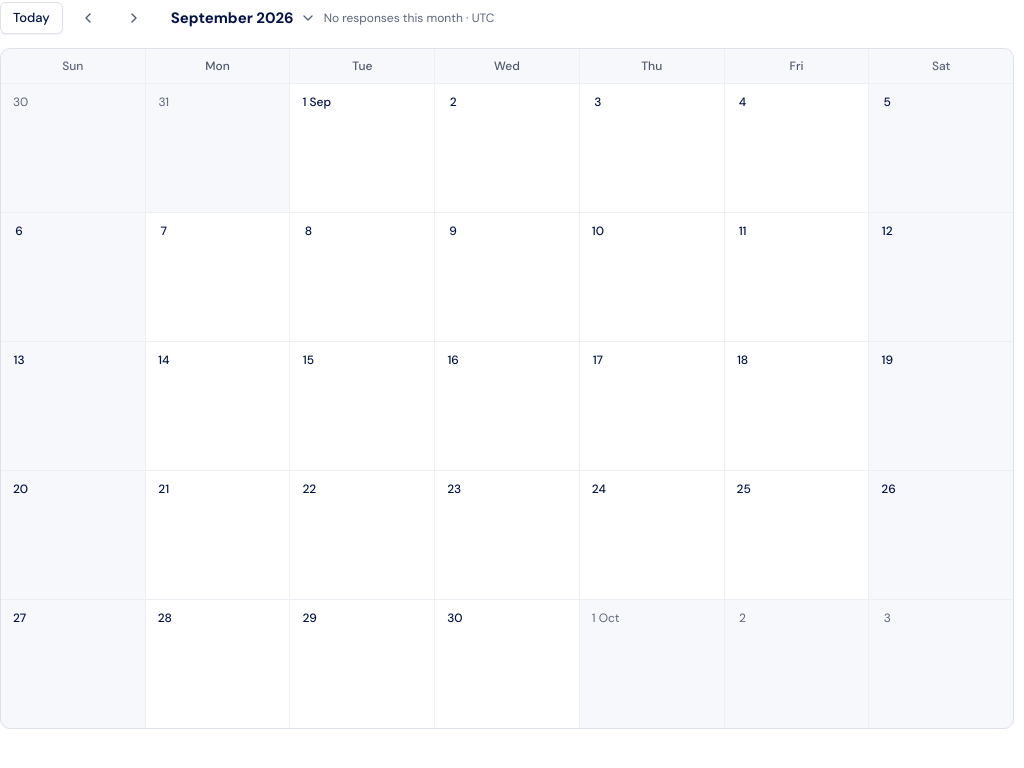
jumping to a month › picks a month of the same year, and closes
This screenshot has width=1024, height=768.
What coordinates should you click on to do the following:
click the button "September 2026"
I would click on:
 (243, 18)
Its box is [163,5,324,31].
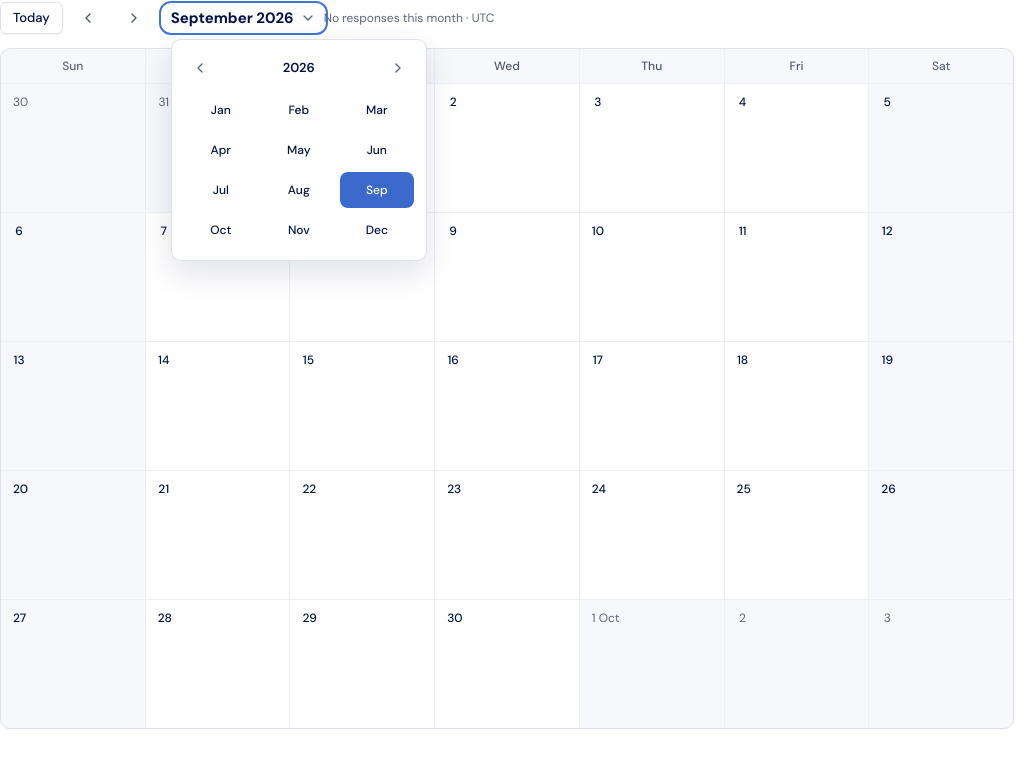
What coordinates should you click on to do the following:
click the button "Mar"
I would click on:
 (377, 110)
Its box is [340,92,414,128].
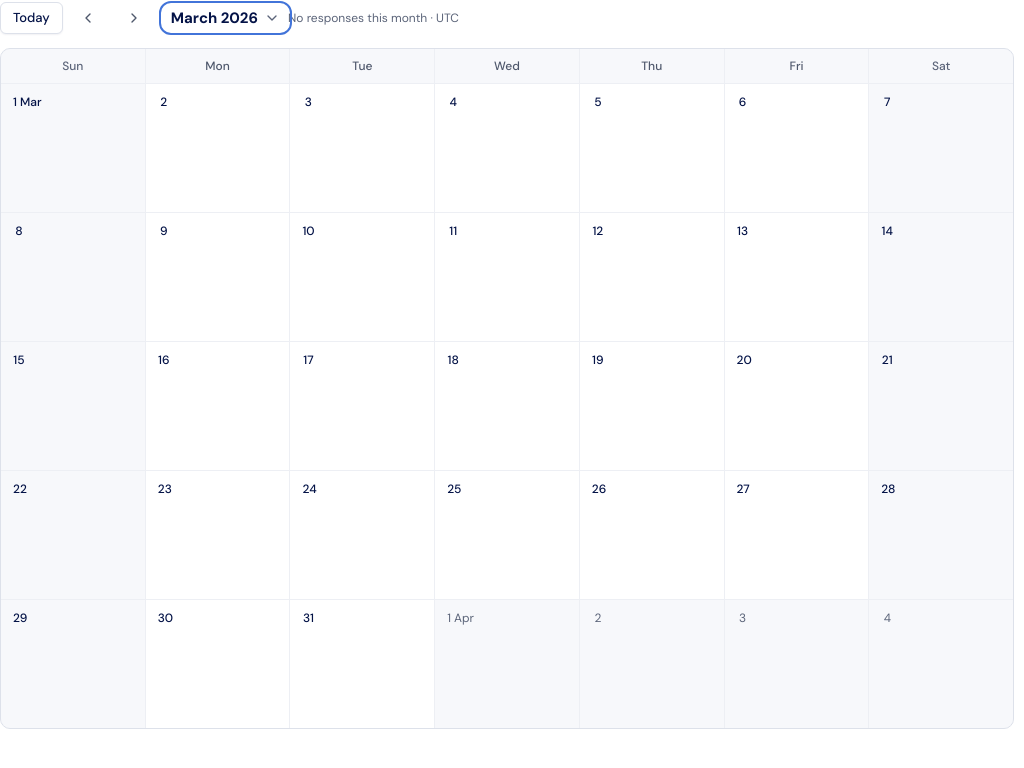
Check: the heading "March 2026" is shown, box [171,5,280,31]
